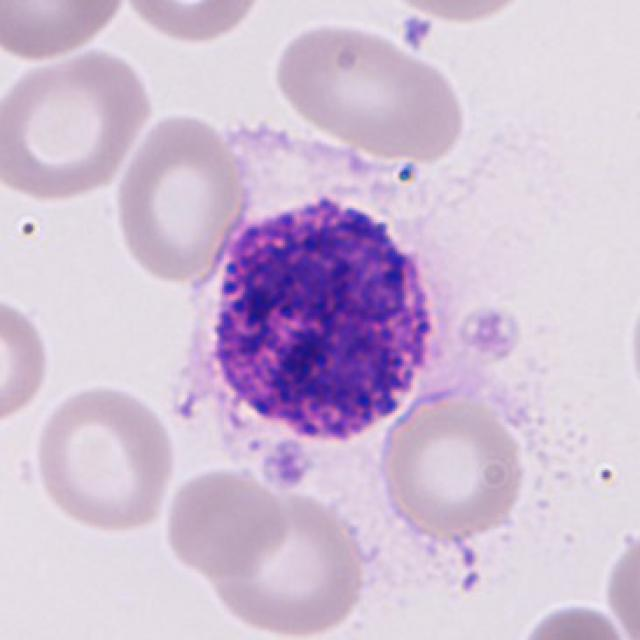Basophil: (156, 177, 457, 494)
Platelets: (454, 302, 524, 362), (399, 14, 435, 50)
RBC: (266, 16, 468, 161), (196, 486, 372, 638), (0, 43, 157, 204), (110, 108, 252, 286), (376, 385, 532, 539), (30, 378, 180, 536), (159, 463, 292, 579), (0, 0, 131, 64), (0, 290, 54, 428), (117, 0, 269, 47), (512, 596, 634, 640), (380, 0, 542, 28), (601, 524, 640, 640), (390, 7, 495, 42), (626, 278, 640, 417)
